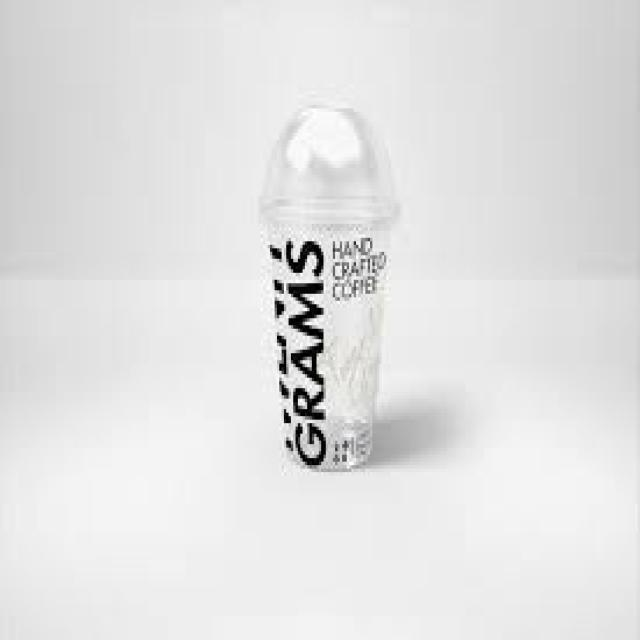cup: (250, 180, 414, 508)
